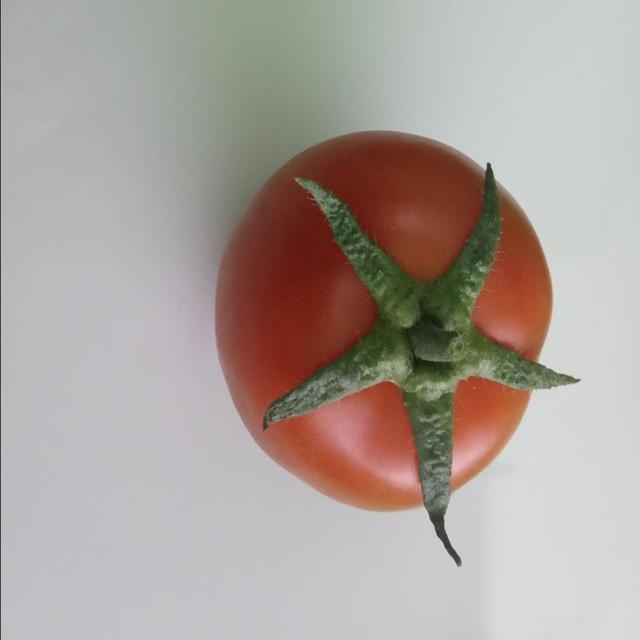Healthy Fruit: (140, 83, 387, 377)
